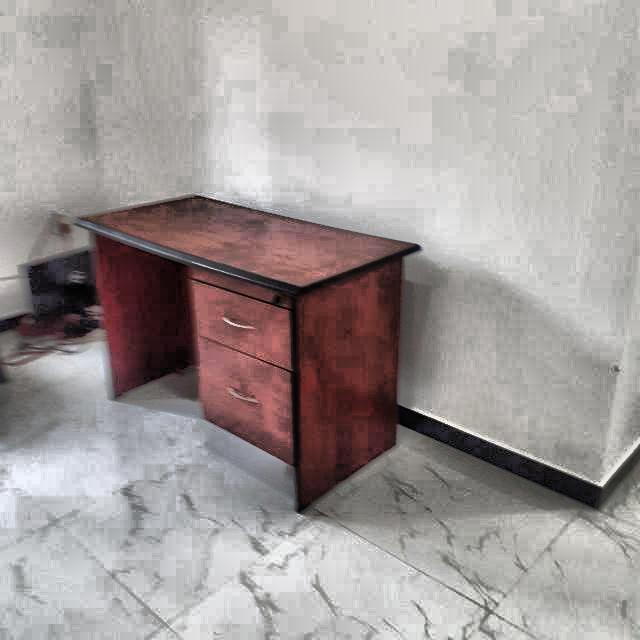mesa: (66, 181, 454, 532)
